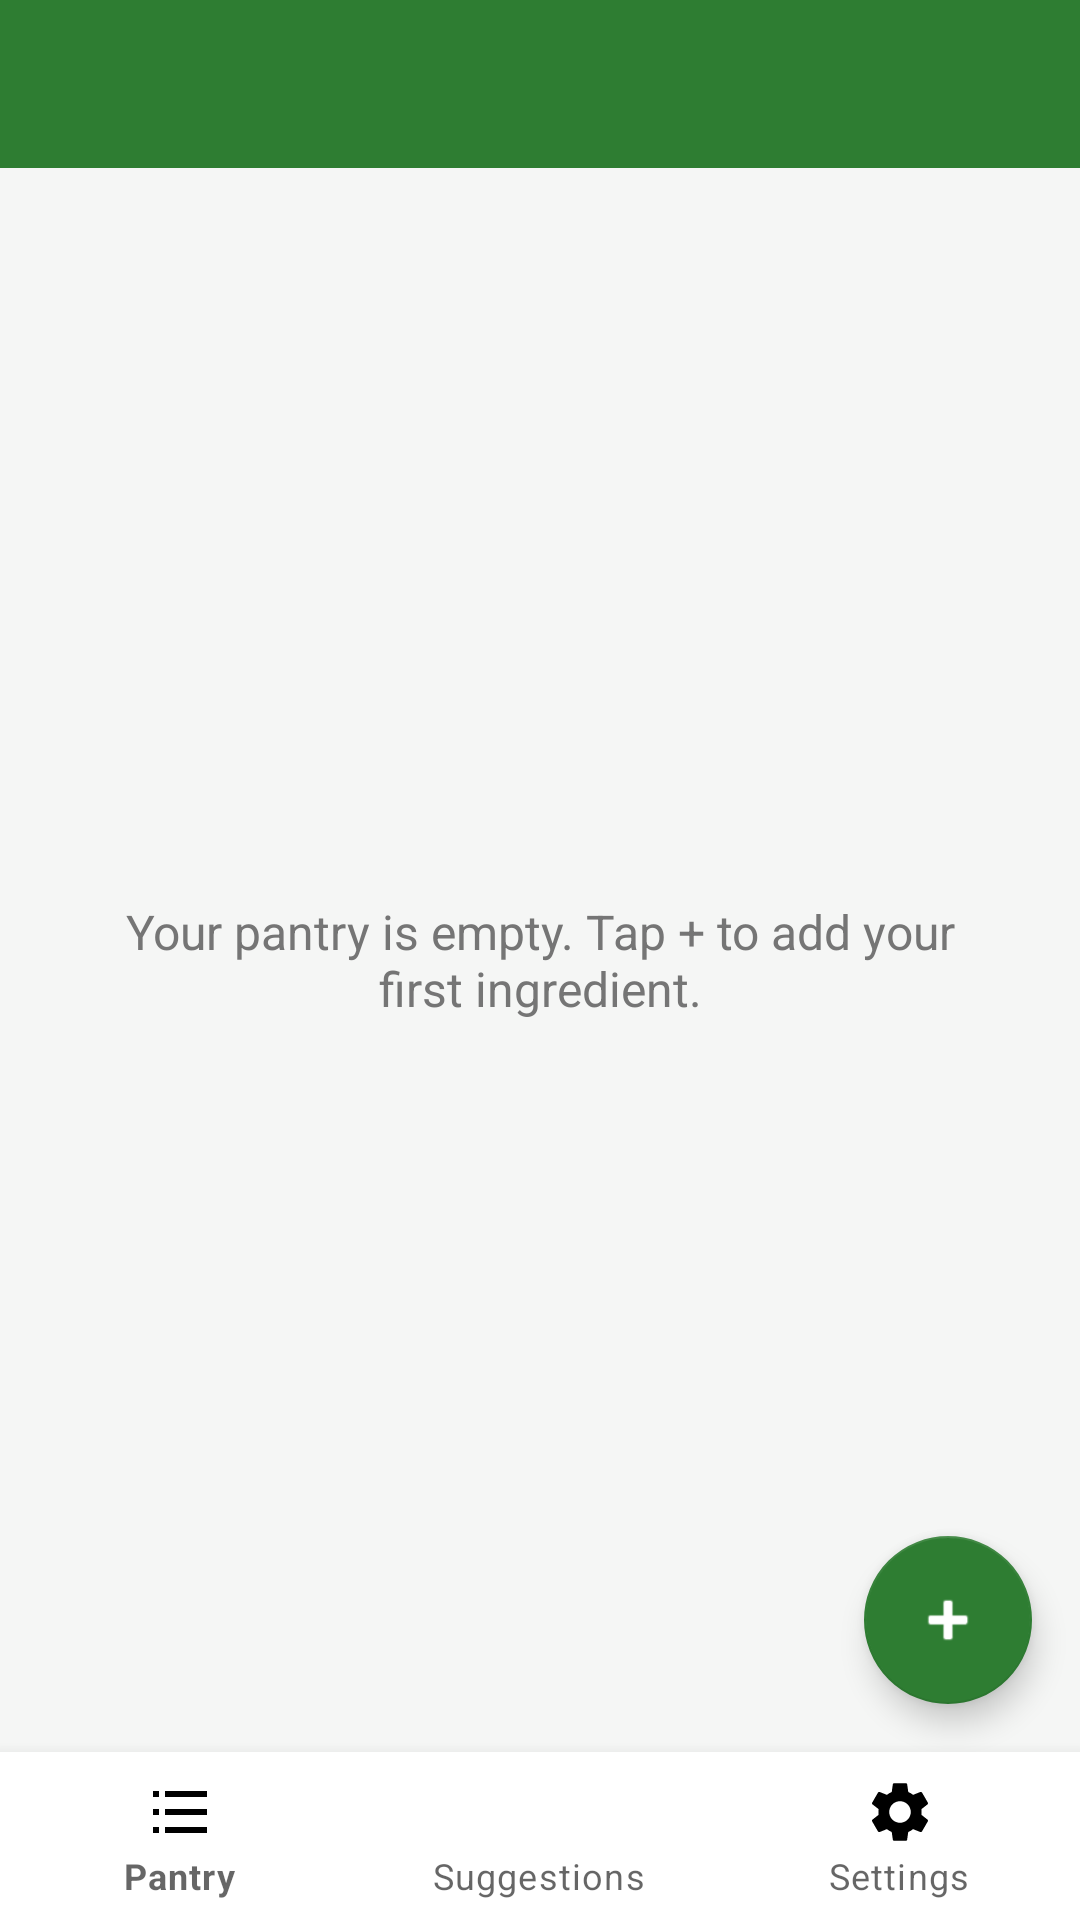

Icons on this 1080×1920 Android screen, each with its box as (x1, y1, x2, y2):
Add ingredient: (864, 1536, 1032, 1704)
